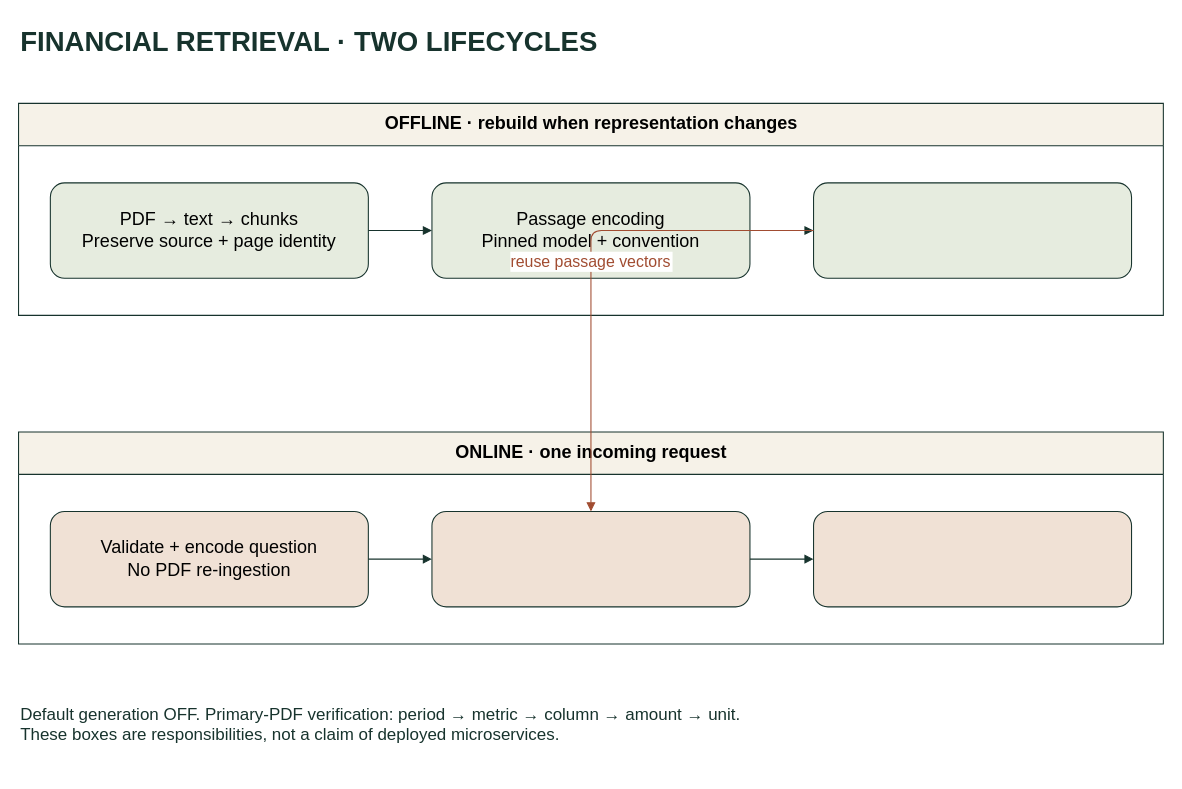
This 1182x789 diagram has some shape labels left out. Each missing label, with the centre of its shape:
Evidence policy + context Similarity ≠ truth: the point at 972,558
Exact cosine ranking Top-k candidates: the point at 590,558
Versioned index Vectors + ordered chunk records: the point at 972,230
